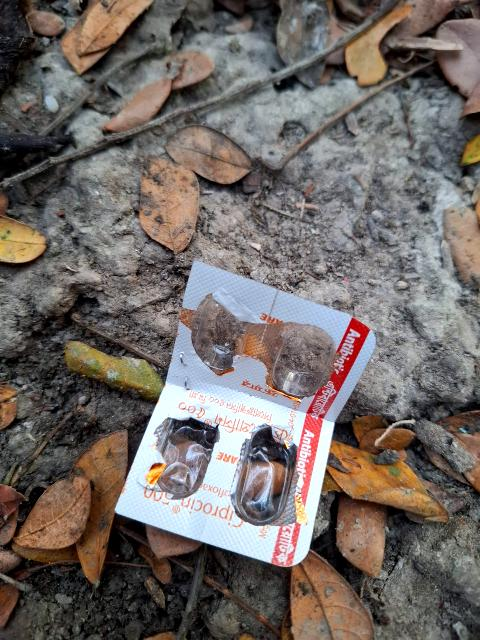medicine: (108, 254, 395, 582)
